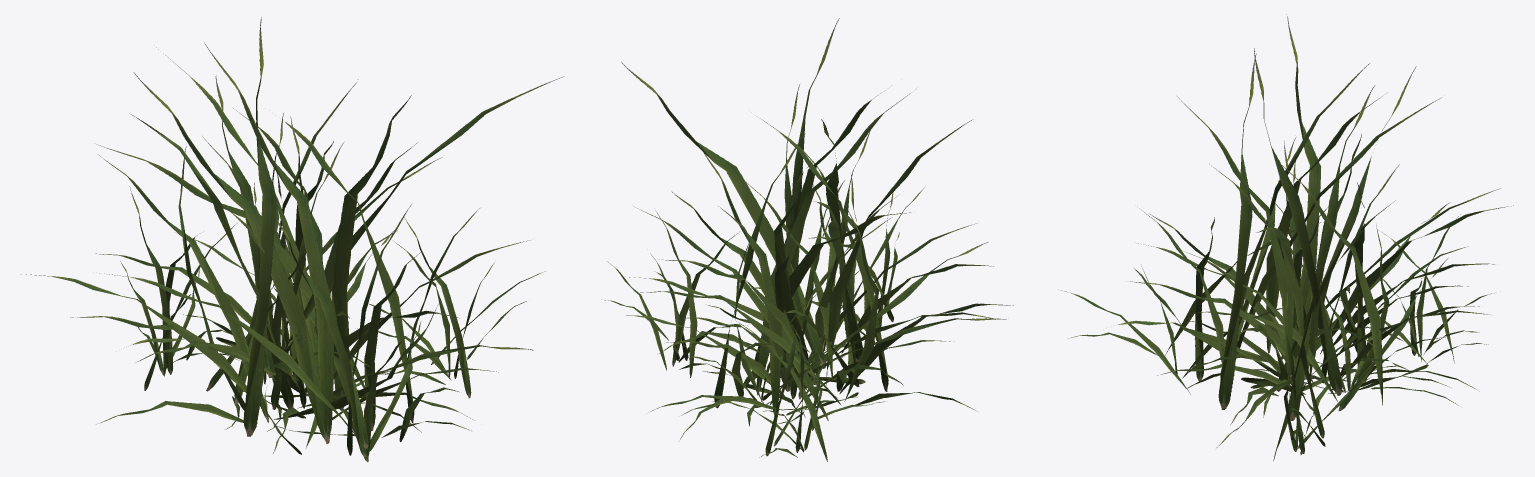
Rendered from realistics_grass_07.glb.
The picture shows the model from 3 angles, left to right: view 1: azimuth 30°, elevation 25°; view 2: azimuth 150°, elevation 25°; view 3: azimuth 270°, elevation 25°; orthographic projection. The views are drawn at different scales.
Parts seen in each view (by area): view 1: Object_2; view 2: Object_2; view 3: Object_2.
Boxes of the visible parts, x1,y1,x2,y2 form: Object_2: (21,17,563,462); Object_2: (601,18,1013,461); Object_2: (1061,14,1513,461).
Size of the model in its own units: 45.48 by 34.78 by 45.72.
1 material, 1 textured.
